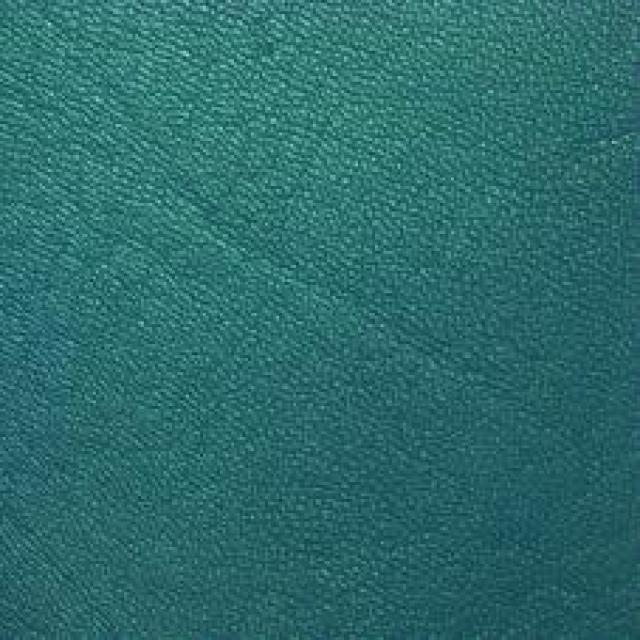Growth Marks: (176, 175, 424, 361)
